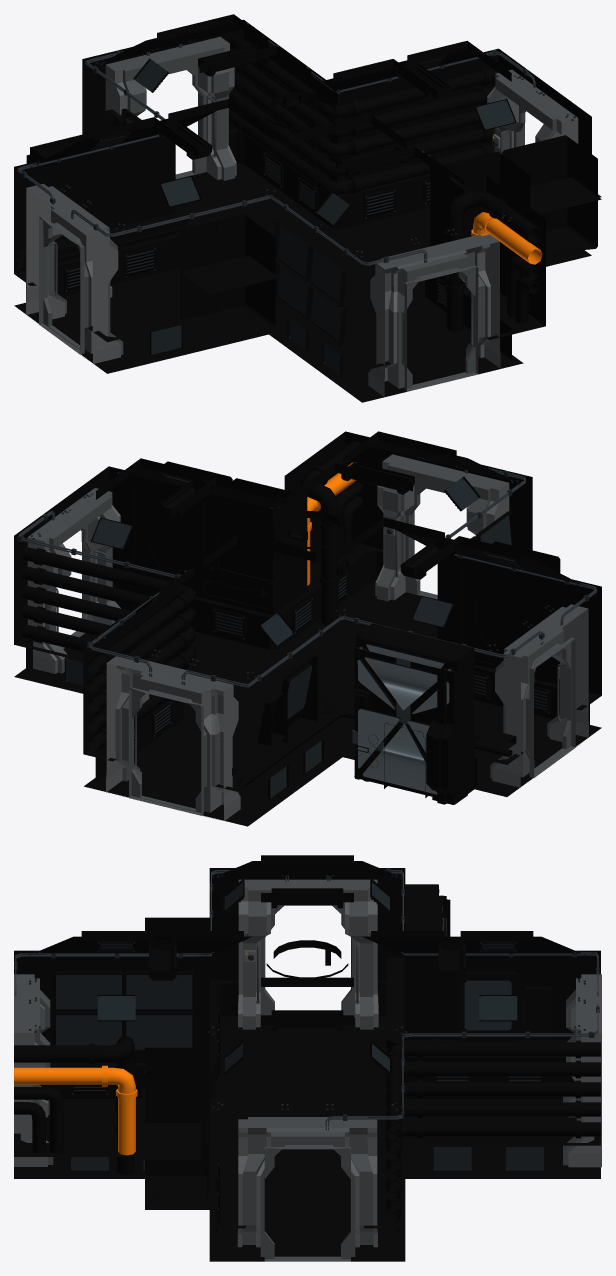
File: ROOMx4_2.fbx
3 renders of one model, top to bottom at view 1: azimuth 30°, elevation 25°; view 2: azimuth 150°, elevation 25°; view 3: azimuth 270°, elevation 25°, orthographic. The views are drawn at different scales.
Visible parts, largest first — view 1: Plane.003, ROOMx4_2, Circle.004, OptionEmpty, Circle.006, Plane.007, Plane.005, Plane.011, Plane.006, provoda.001, Plane.009, ventil.014 (+17 smaller); view 2: Plane.003, ROOMx4_2, Circle.004, OptionEVENTgenerator.002, OptionEVENTAIDKIT.002, Plane.006, Circle.006, Plane.009, Plane.008, provoda.001, Plane.004, Gen.016 (+18 smaller); view 3: Plane.003, ROOMx4_2, Circle.004, Plane.005, Circle.006, Plane.011, Plane.004, provoda.001, Plane.010, ventil.021, OptionEVENTAIDKIT.002, ventil.012 (+12 smaller).
Boxes of the visible parts, <box> form: Plane.003: <box>14,14,591,402</box>; ROOMx4_2: <box>26,36,578,396</box>; Circle.004: <box>229,35,498,195</box>; OptionEmpty: <box>46,146,155,296</box>; Circle.006: <box>436,191,542,331</box>; Plane.007: <box>182,215,278,342</box>; Plane.005: <box>274,221,346,345</box>; Plane.011: <box>530,136,601,258</box>; Plane.006: <box>180,214,245,320</box>; provoda.001: <box>17,22,535,265</box>; Plane.009: <box>502,135,567,231</box>; ventil.014: <box>64,246,156,292</box>; Plane.003: <box>14,431,601,826</box>; ROOMx4_2: <box>27,454,588,820</box>; Circle.004: <box>22,546,195,751</box>; OptionEVENTgenerator.002: <box>354,646,457,802</box>; OptionEVENTAIDKIT.002: <box>356,623,474,800</box>; Plane.006: <box>463,564,528,665</box>; Circle.006: <box>300,440,363,624</box>; Plane.009: <box>135,484,200,592</box>; Plane.008: <box>204,501,269,608</box>; provoda.001: <box>17,468,596,687</box>; Plane.004: <box>257,655,329,774</box>; Gen.016: <box>350,667,455,804</box>; Plane.003: <box>14,855,600,1261</box>; ROOMx4_2: <box>14,879,601,1261</box>; Circle.004: <box>385,1040,600,1220</box>; Plane.005: <box>54,971,193,1051</box>; Circle.006: <box>14,1035,137,1174</box>; Plane.011: <box>141,1082,208,1209</box>; Plane.004: <box>427,971,552,1122</box>; provoda.001: <box>14,868,599,1130</box>; Plane.010: <box>141,1047,208,1122</box>; ventil.021: <box>433,1146,543,1171</box>; OptionEVENTAIDKIT.002: <box>405,884,442,930</box>; ventil.012: <box>97,941,135,1021</box>.
Size of the model in its own units: 10.02 by 3.56 by 10.02.
